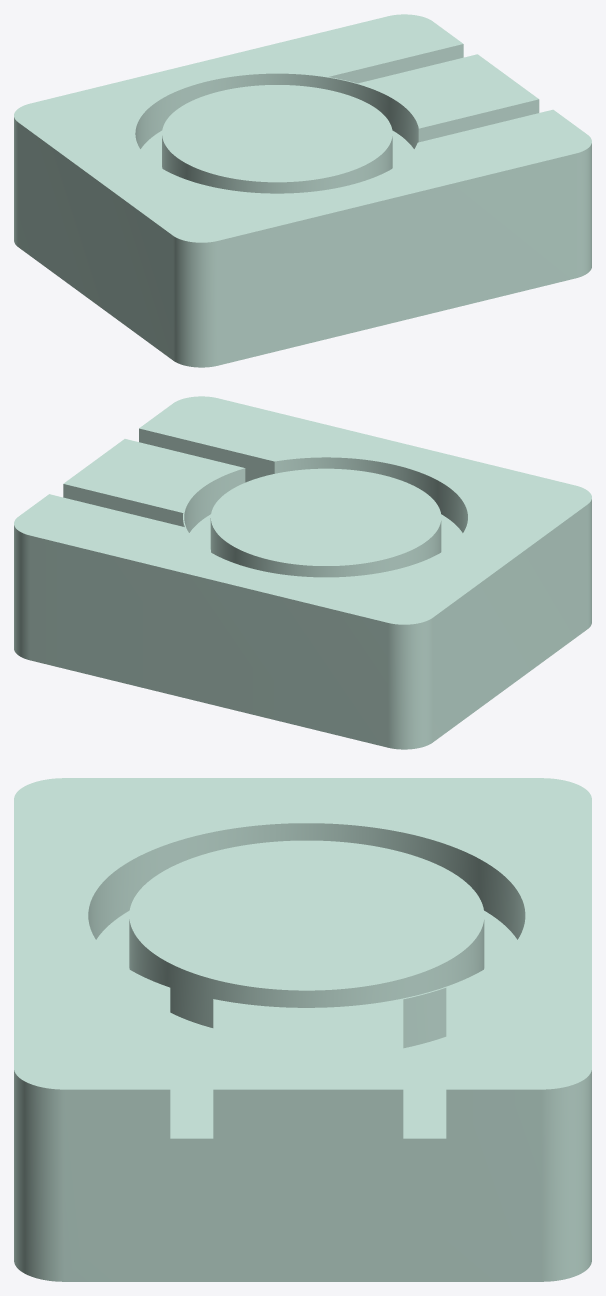
3 views of the same model, one above another, from view 1: azimuth 30°, elevation 25°; view 2: azimuth 150°, elevation 25°; view 3: azimuth 270°, elevation 25° (orthographic). The views are drawn at different scales.
Visible parts, largest first — view 1: Renderer Node; view 2: Renderer Node; view 3: Renderer Node.
Boxes of the visible parts, <box> form: Renderer Node: <box>14,14,591,367</box>; Renderer Node: <box>14,396,591,749</box>; Renderer Node: <box>14,778,591,1281</box>.
Size of the model in its own units: 1.38 by 0.3984 by 1.09.
